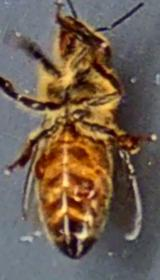varroa_mite: (24, 146, 56, 184), (79, 179, 100, 206)
